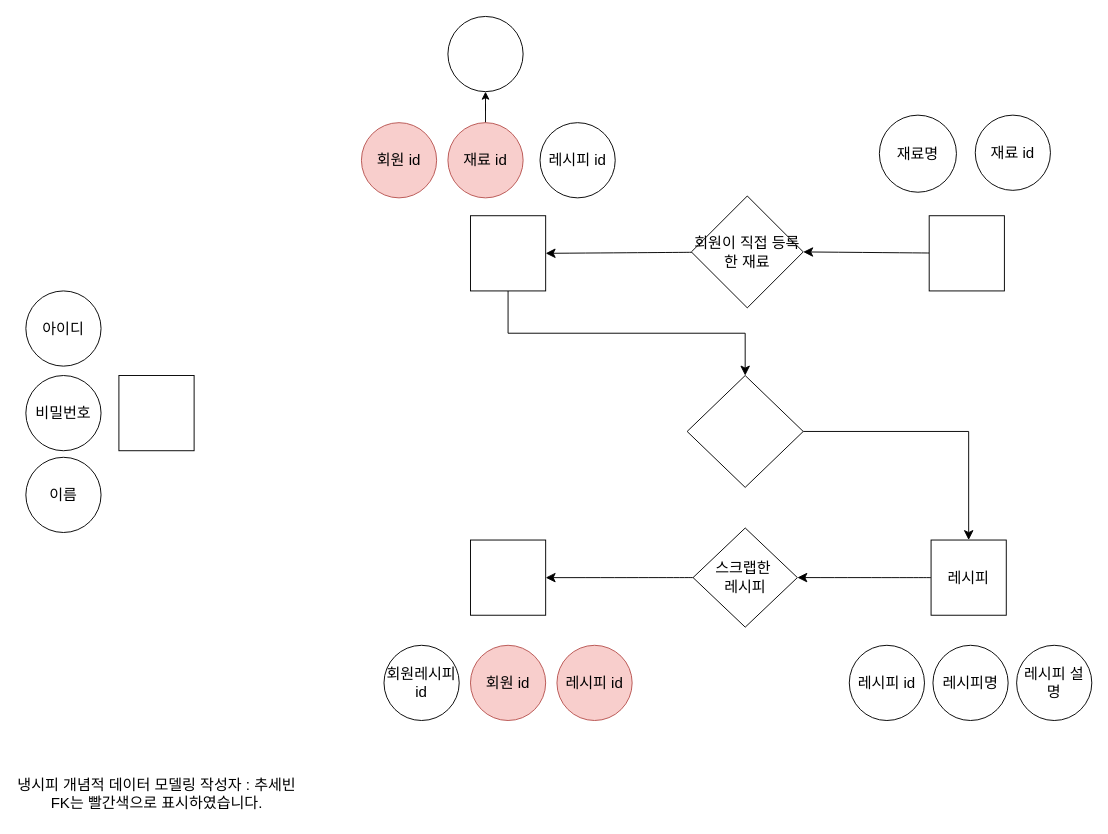
Image size: 1108x834. Some labels were removed from this diagram. The shapes that lost their labels are listed below. From the top down, each one's centre as x and y in pixels, then its label:
At pixel 485 54: "재료 개수".
At pixel 508 253: "회원 재료".
At pixel 966 253: "재료".
At pixel 156 413: "회원".
At pixel 744 431: "회원 재료 기반 레시피 제공".
At pixel 508 577: "회원 레시피".
